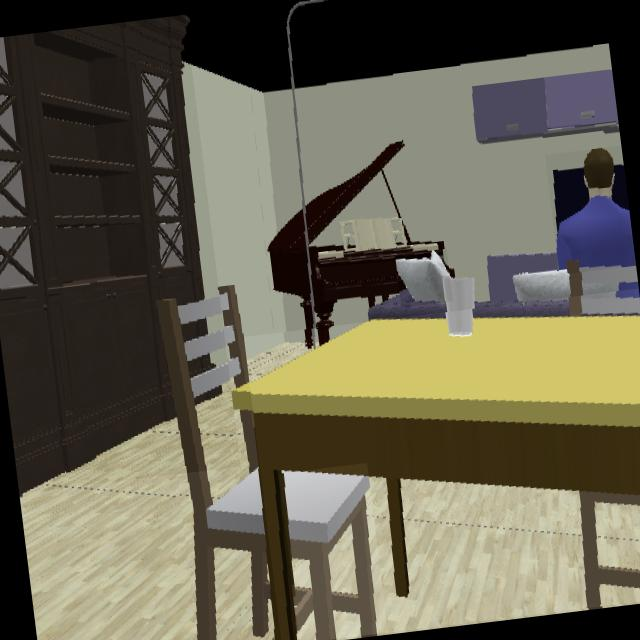bookshelf: (0, 15, 203, 493)
cabinet: (473, 69, 617, 144)
chair: (157, 285, 271, 640), (281, 472, 376, 640)
person: (559, 148, 634, 270)
pillow: (396, 250, 449, 303)
table: (233, 315, 640, 640)
